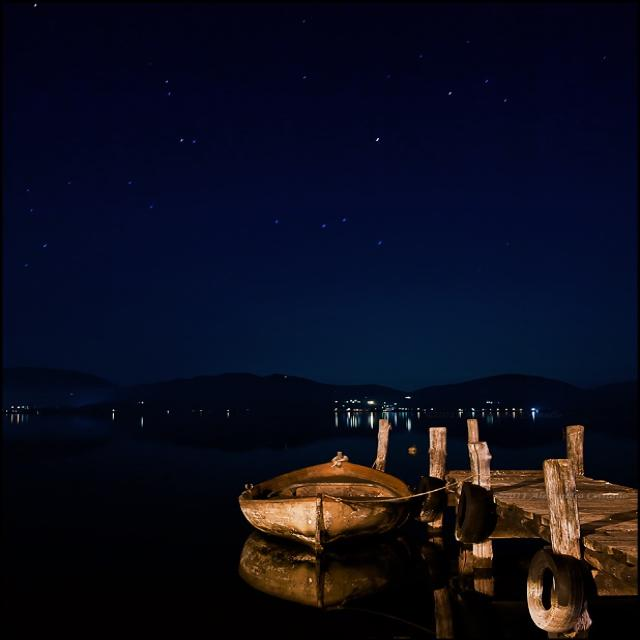Boat: (212, 404, 428, 551)
